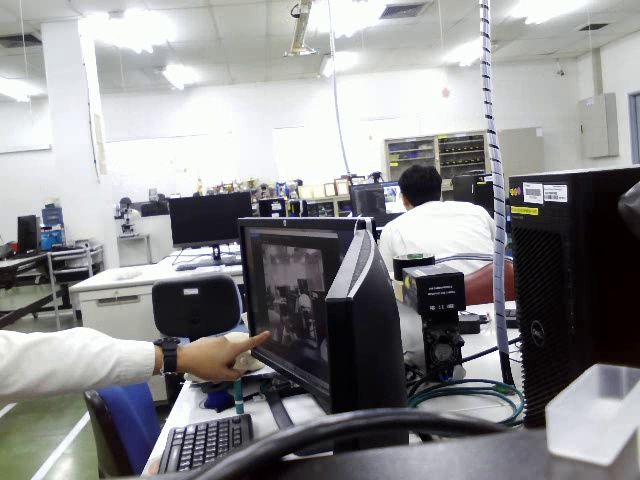aaa: (141, 259, 250, 340)
